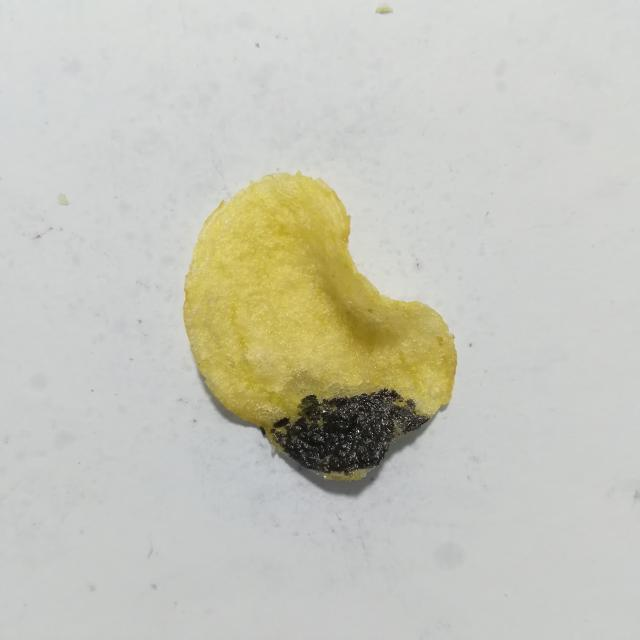chip: (184, 173, 456, 479)
damaged: (270, 389, 429, 476)
semi-damaged: (279, 370, 378, 417)
